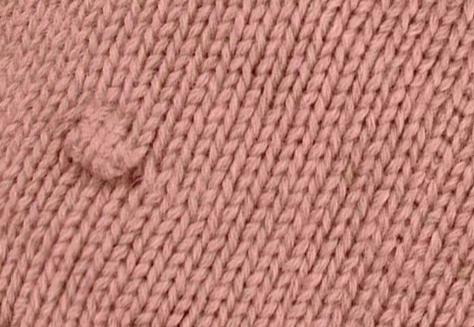knot: (50, 111, 157, 188)
